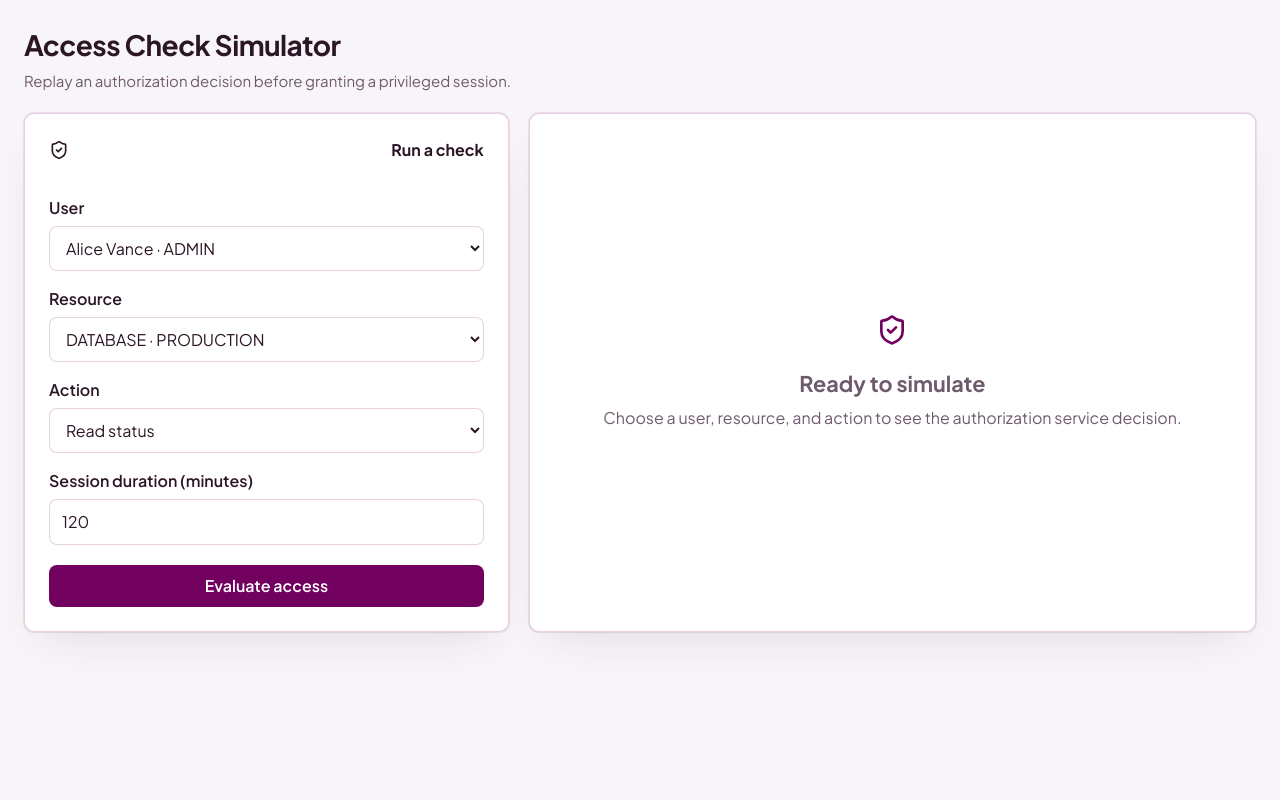
Test: Access check simulator › shows the DENY decision and reason
This screenshot has width=1280, height=800.
Click the button "Evaluate access". click: click(266, 586)
box: 49,564 -> 484,606
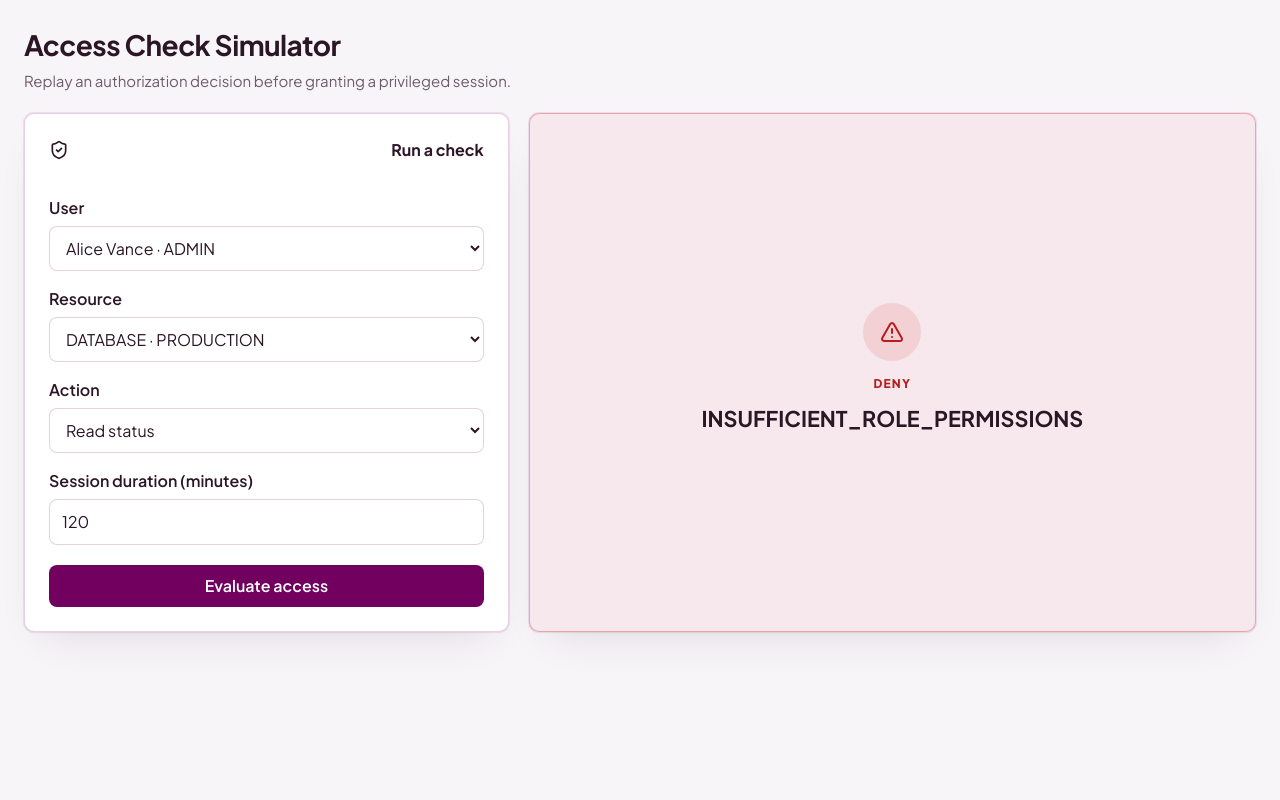
Check: the element with test id "decision-result" shows "DENY", box 874,376 -> 911,391
Check: the element with test id "decision-result" shows "INSUFFICIENT_ROLE_PERMISSIONS", box 702,405 -> 1083,432
